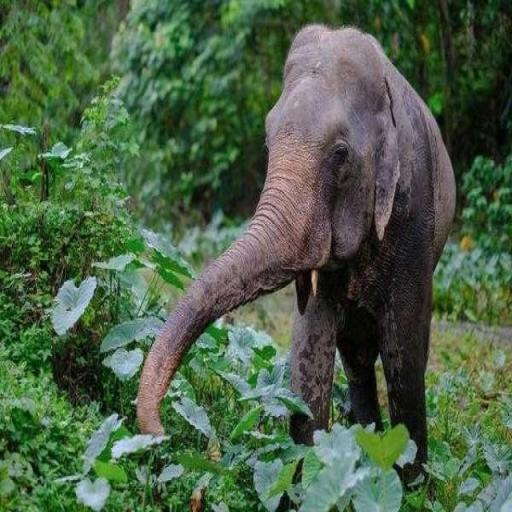Elephant: (135, 22, 456, 486)
